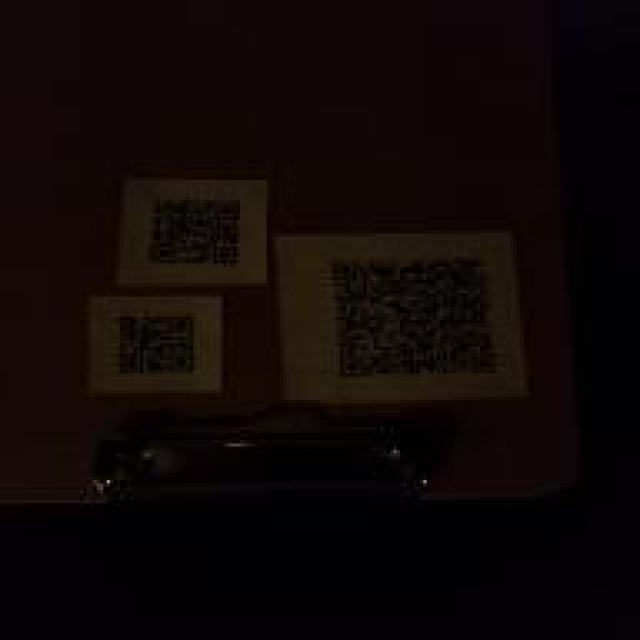QR_CODE: (322, 252, 510, 393), (133, 188, 250, 277), (102, 305, 206, 383)
